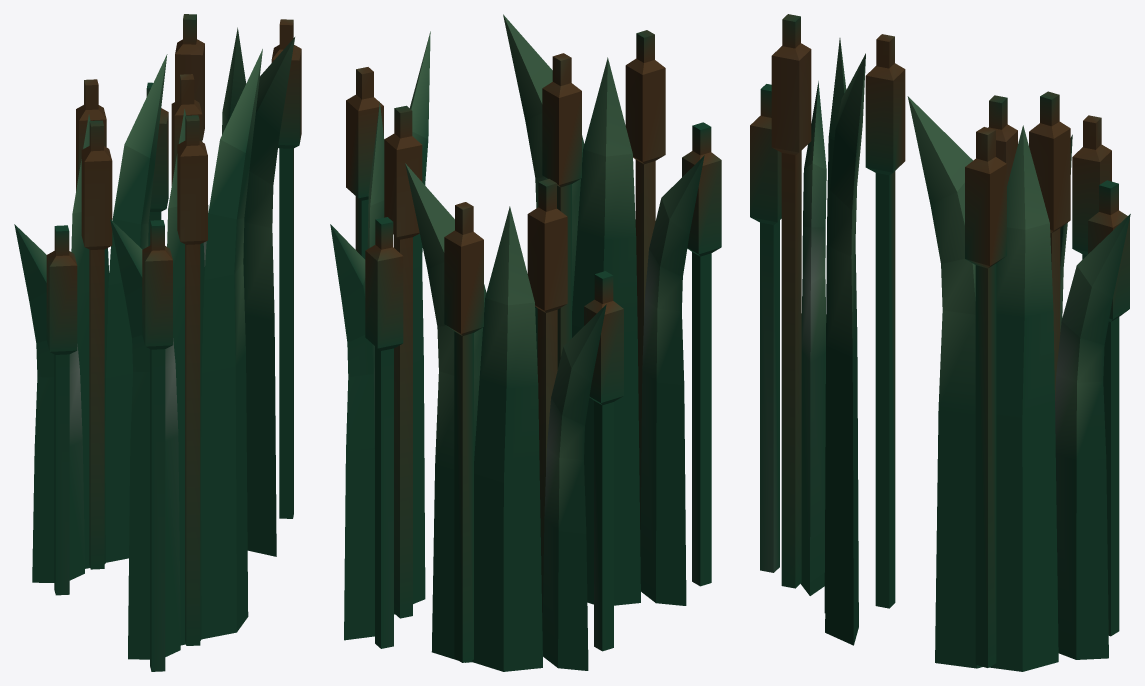
The model's file is water_2.fbx.
3 views of the same model, side by side, from view 1: azimuth 30°, elevation 25°; view 2: azimuth 150°, elevation 25°; view 3: azimuth 270°, elevation 25° (orthographic). The views are drawn at different scales.
Parts seen in each view (by area): view 1: Cylinder.000_Cylinder.001; view 2: Cylinder.000_Cylinder.001; view 3: Cylinder.000_Cylinder.001.
Part boxes in pixels (left/top/right/bottom): Cylinder.000_Cylinder.001: left=14, top=14, right=301, bottom=671; Cylinder.000_Cylinder.001: left=330, top=14, right=721, bottom=671; Cylinder.000_Cylinder.001: left=750, top=14, right=1130, bottom=671.
Size of the model in its own units: 99.36 by 196 by 112.
